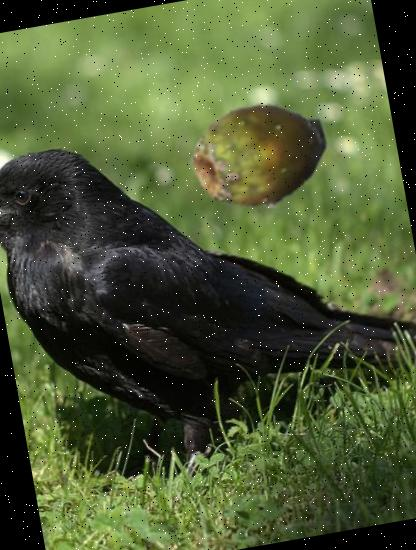Cactus: (180, 76, 342, 239)
